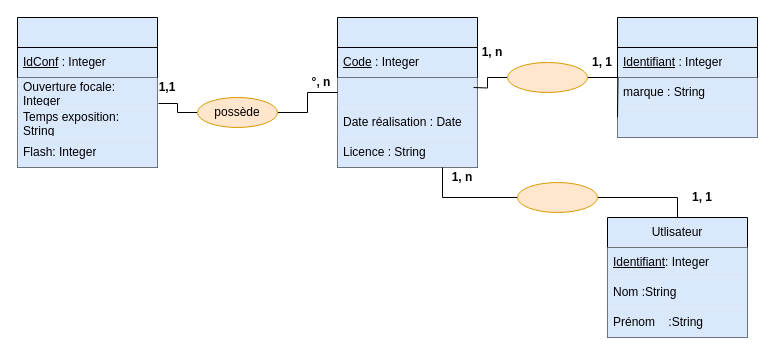
The diagram is 775 pixels wide and 355 high, and some of its shapes have lost their labels. The shapes that lost their labels are listed below. From the top down, each one's box as (x1, y1, x2, y2) in pixels, then its label:
(16, 16, 158, 168): Configuration
(337, 77, 477, 107): Lieu : String
(336, 16, 478, 168): Photographie
(506, 62, 588, 92): prise
(616, 16, 758, 138): Appareil
(516, 182, 598, 212): est publié
